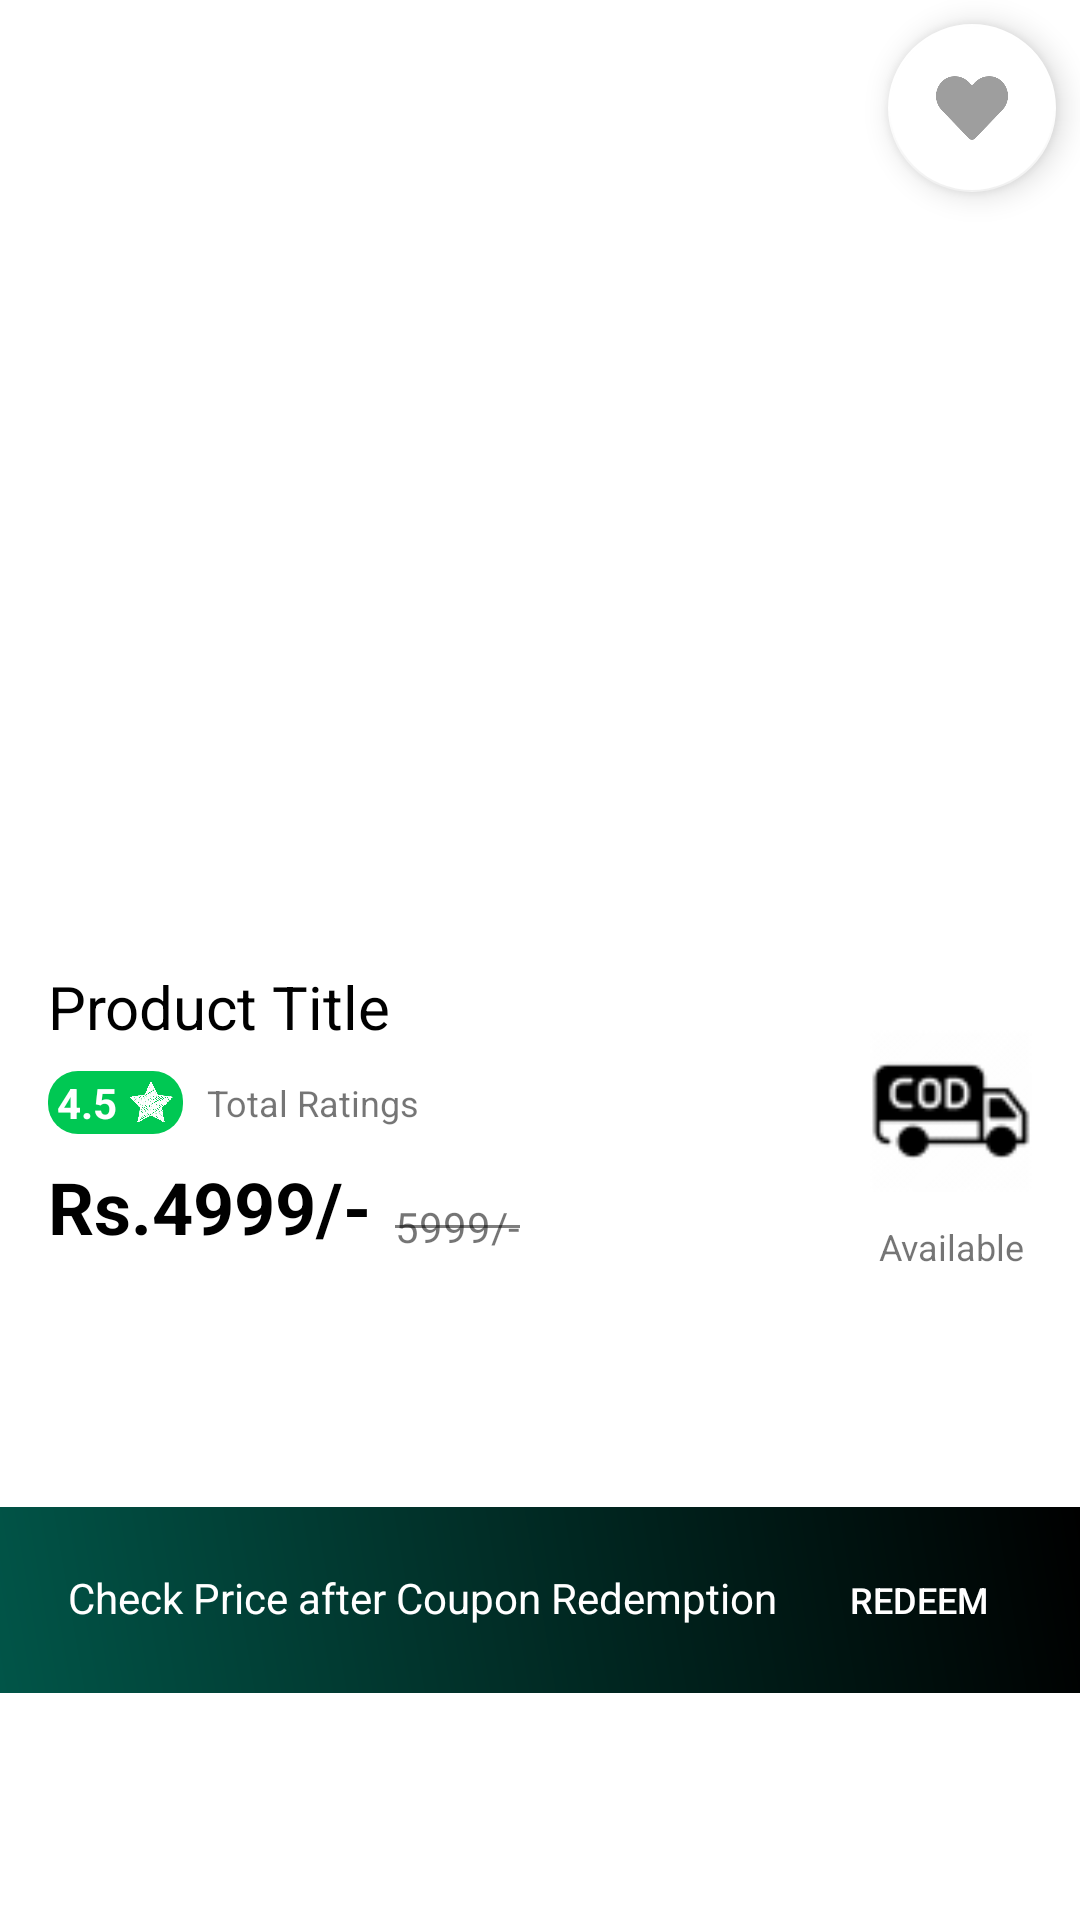

Where icons sit on this 1080x1920 app screen, as (x1, y1, x2, y2):
star: (130, 1082, 173, 1122)
wishlist: (936, 34, 1056, 192)
